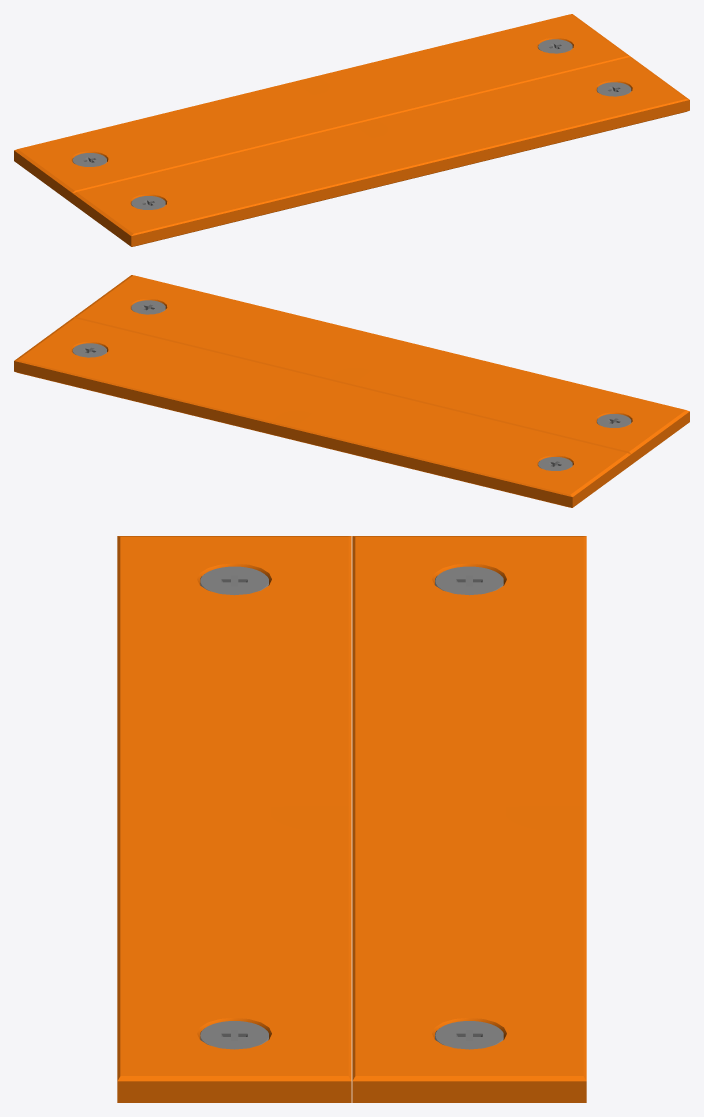
Rendered from DoubleBoltedPlankYellow.fbx.
The picture shows the model from 3 angles, top to bottom: view 1: azimuth 30°, elevation 25°; view 2: azimuth 150°, elevation 25°; view 3: azimuth 270°, elevation 25°; orthographic projection. The views are drawn at different scales.
Visible parts, largest first — view 1: Cube, Cube.001; view 2: Cube, Cube.001; view 3: Cube, Cube.001.
Part boxes in pixels (left/top/right/bottom): Cube: left=14, top=14, right=689, bottom=246; Cube.001: left=72, top=39, right=631, bottom=209; Cube: left=14, top=275, right=689, bottom=507; Cube.001: left=72, top=300, right=631, bottom=470; Cube: left=117, top=536, right=586, bottom=1102; Cube.001: left=200, top=566, right=503, bottom=1049.
Bounding box in the file's own units: 21.97 × 0.4885 × 7.99.
